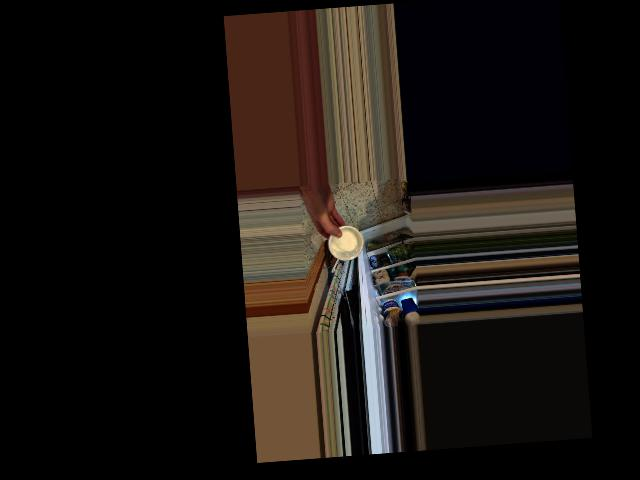cotage: (325, 225, 365, 264)
